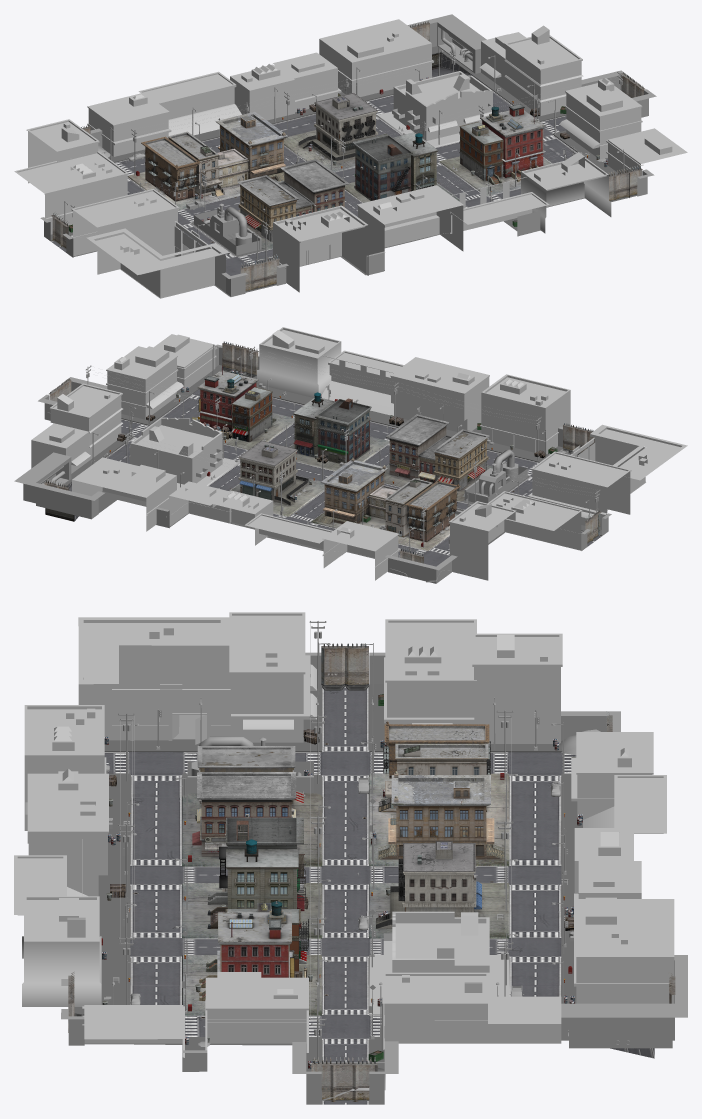
File: TMNT_Street_Level_V03.fbx
3 renders of one model, top to bottom at view 1: azimuth 30°, elevation 25°; view 2: azimuth 150°, elevation 25°; view 3: azimuth 270°, elevation 25°, orthographic. The views are drawn at different scales.
Parts seen in each view (by area): view 1: TMNT_Road, TMNT_BUILDING_13, TMNT_BUILDING_25, TMNT_BUILDING_21, TMNT_BUILDING_19, TMNT_BUILDING_5, TMNT_BUILDING_22, TMNT_BUILDING_15, TMNT_BUILDING_18, TMNT_BUILDING_1, TMNT_BUILDING_16, TMNT_BUILDING_27 (+24 smaller); view 2: TMNT_Road, TMNT_BUILDING_19, TMNT_BUILDING_22, TMNT_BUILDING_21, TMNT_BUILDING_5, TMNT_BUILDING_20, TMNT_BUILDING_1, TMNT_BUILDING_16, TMNT_BUILDING_13, TMNT_BUILDING_27, TMNT_BUILDING_3, TMNT_BUILDING_25 (+23 smaller); view 3: TMNT_Road, TMNT_BUILDING_25, TMNT_BUILDING_13, TMNT_BUILDING_5, TMNT_BUILDING_18, TMNT_BUILDING_9, TMNT_BUILDING_20, TMNT_BUILDING_4, TMNT_BUILDING_1, TMNT_BUILDING_19, TMNT_BUILDING_21, TMNT_BUILDING_15 (+27 smaller).
Boxes of the visible parts, bbox=[...] form: TMNT_Road: bbox=[50, 46, 637, 298]; TMNT_BUILDING_13: bbox=[319, 19, 433, 96]; TMNT_BUILDING_25: bbox=[86, 221, 229, 298]; TMNT_BUILDING_21: bbox=[376, 71, 492, 147]; TMNT_BUILDING_19: bbox=[357, 177, 526, 270]; TMNT_BUILDING_5: bbox=[70, 189, 179, 274]; TMNT_BUILDING_22: bbox=[271, 205, 368, 292]; TMNT_BUILDING_15: bbox=[504, 25, 583, 115]; TMNT_BUILDING_18: bbox=[14, 151, 128, 234]; TMNT_BUILDING_1: bbox=[284, 92, 378, 172]; TMNT_BUILDING_16: bbox=[559, 78, 642, 159]; TMNT_BUILDING_27: bbox=[141, 131, 224, 201]; TMNT_Road: bbox=[45, 365, 645, 566]; TMNT_BUILDING_19: bbox=[323, 355, 489, 431]; TMNT_BUILDING_22: bbox=[480, 374, 570, 454]; TMNT_BUILDING_21: bbox=[129, 417, 239, 489]; TMNT_BUILDING_5: bbox=[527, 451, 631, 529]; TMNT_BUILDING_20: bbox=[257, 327, 341, 397]; TMNT_BUILDING_1: bbox=[230, 440, 324, 516]; TMNT_BUILDING_16: bbox=[106, 346, 183, 419]; TMNT_BUILDING_13: bbox=[72, 457, 176, 531]; TMNT_BUILDING_27: bbox=[385, 478, 460, 542]; TMNT_BUILDING_3: bbox=[289, 398, 389, 471]; TMNT_BUILDING_25: bbox=[570, 424, 687, 493]; TMNT_Road: bbox=[74, 683, 674, 1104]; TMNT_BUILDING_25: bbox=[78, 617, 230, 744]; TMNT_BUILDING_13: bbox=[574, 897, 674, 1003]; TMNT_BUILDING_5: bbox=[229, 612, 316, 742]; TMNT_BUILDING_18: bbox=[384, 619, 476, 724]; TMNT_BUILDING_9: bbox=[472, 633, 562, 743]; TMNT_BUILDING_20: bbox=[22, 896, 101, 1006]; TMNT_BUILDING_4: bbox=[182, 772, 322, 866]; TMNT_BUILDING_1: bbox=[369, 841, 509, 938]; TMNT_BUILDING_19: bbox=[27, 768, 108, 896]; TMNT_BUILDING_21: bbox=[369, 911, 509, 1015]; TMNT_BUILDING_15: bbox=[381, 972, 489, 1052].
Size of the model in its own units: 82.83 by 10.27 by 54.89.
